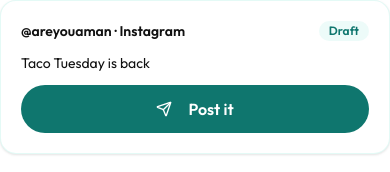
it: SocialDraftCard once-only guard › keeps the button down when the post succeeded but the marker write failed
The image size is (390, 172).
Click the button "Post it" at (195, 109), box [21, 85, 369, 133]
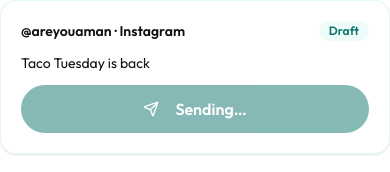
Expected: the button "Sending…" is disabled, [21, 85, 369, 133]
